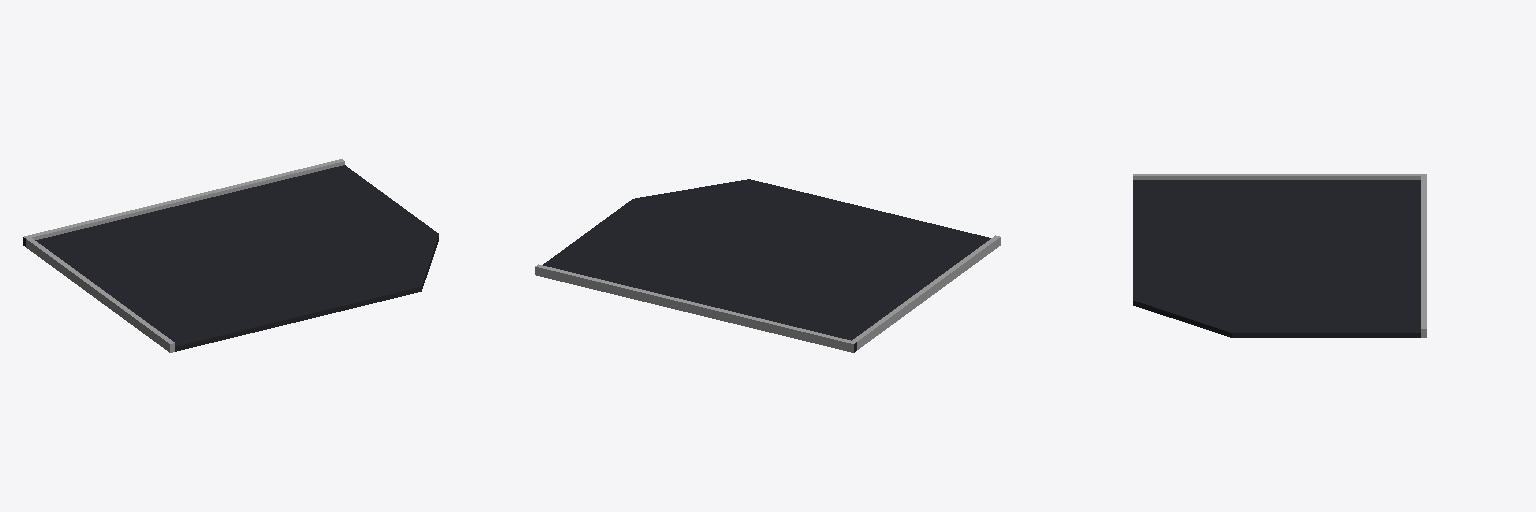
Rendered from floor.obj.
3 views of the same model, side by side, from view 1: azimuth 30°, elevation 25°; view 2: azimuth 150°, elevation 25°; view 3: azimuth 270°, elevation 25° (orthographic).
Parts seen in each view (by area): view 1: Plane.002_Plane.001; view 2: Plane.002_Plane.001; view 3: Plane.002_Plane.001.
Boxes of the visible parts, x1,y1,x2,y2 form: Plane.002_Plane.001: [23, 159, 438, 352]; Plane.002_Plane.001: [535, 179, 1000, 352]; Plane.002_Plane.001: [1133, 174, 1426, 337].
Size of the model in its own units: 0.6434 by 0.017 by 0.5143.